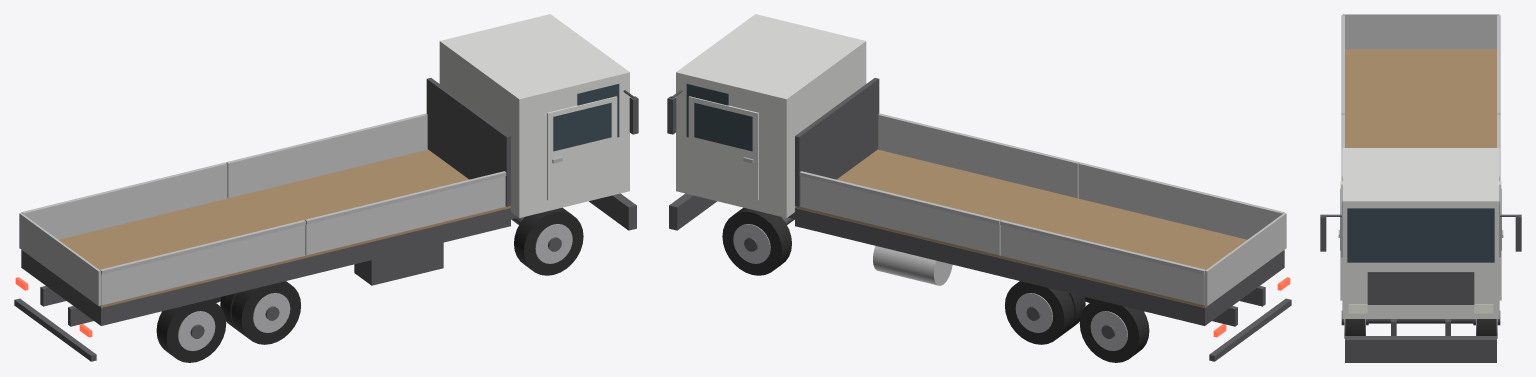
The model's file is SM_FlatbedTruck.fbx.
The picture shows the model from 3 angles, left to right: view 1: azimuth 30°, elevation 25°; view 2: azimuth 150°, elevation 25°; view 3: azimuth 270°, elevation 25°; orthographic projection.
Parts seen in each view (by area): view 1: FB_Chassis, FB_DropSide_R2, FB_DropSide_L1, FB_DropSide_R1, FB_DropSide_L2, FB_Door_R, FB_Wheel_A1R, FB_Wheel_A2R, FB_Wheel_A3R, FB_Tailgate; view 2: FB_Chassis, FB_DropSide_L2, FB_DropSide_R1, FB_DropSide_L1, FB_DropSide_R2, FB_Door_L, FB_Wheel_A1L, FB_Wheel_A2L, FB_Wheel_A3L, FB_Tailgate; view 3: FB_Chassis, FB_Tailgate, FB_Wheel_A1L, FB_Wheel_A1R, FB_DropSide_L2, FB_DropSide_R2, FB_Door_L, FB_Door_R, FB_DropSide_L1, FB_DropSide_R1.
Boxes of the visible parts, x1,y1,x2,y2 form: FB_Chassis: [14, 14, 638, 361]; FB_DropSide_R2: [100, 220, 305, 305]; FB_DropSide_L1: [226, 113, 427, 198]; FB_DropSide_R1: [305, 171, 506, 255]; FB_DropSide_L2: [21, 162, 227, 239]; FB_Door_R: [547, 96, 617, 200]; FB_Wheel_A1R: [514, 207, 583, 275]; FB_Wheel_A2R: [231, 281, 300, 344]; FB_Wheel_A3R: [156, 299, 226, 362]; FB_Tailgate: [19, 213, 100, 305]; FB_Chassis: [667, 14, 1291, 361]; FB_DropSide_L2: [1000, 220, 1205, 305]; FB_DropSide_R1: [878, 113, 1079, 198]; FB_DropSide_L1: [799, 171, 1000, 255]; FB_DropSide_R2: [1078, 162, 1284, 239]; FB_Door_L: [688, 96, 758, 200]; FB_Wheel_A1L: [722, 207, 791, 275]; FB_Wheel_A2L: [1005, 281, 1074, 344]; FB_Wheel_A3L: [1079, 299, 1149, 362]; FB_Tailgate: [1205, 213, 1286, 305]; FB_Chassis: [1320, 49, 1521, 362]; FB_Tailgate: [1342, 14, 1499, 49]; FB_Wheel_A1L: [1473, 311, 1500, 338]; FB_Wheel_A1R: [1341, 311, 1368, 338]; FB_DropSide_L2: [1497, 15, 1500, 114]; FB_DropSide_R2: [1341, 15, 1344, 114]; FB_Door_L: [1499, 181, 1503, 300]; FB_Door_R: [1338, 181, 1342, 300]; FB_DropSide_L1: [1497, 114, 1500, 181]; FB_DropSide_R1: [1341, 114, 1344, 181].
Bounding box in the file's own units: 986 × 320 × 319.
